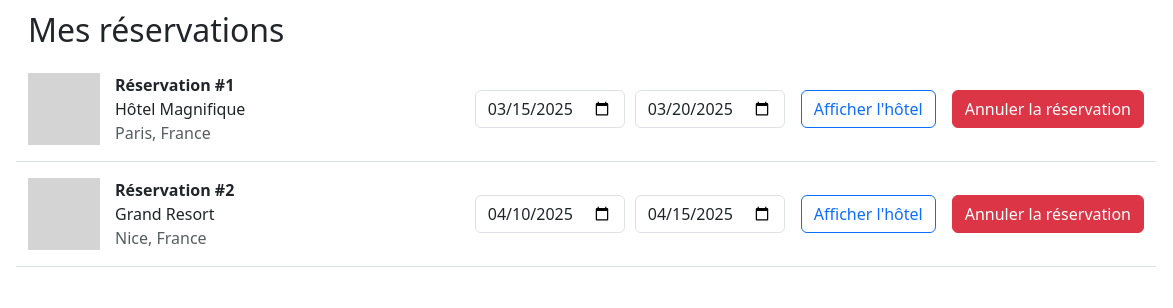
BookingsView.vue › Interaction utilisateur - Utilisateur standard › devrait marquer une réservation comme modifiée quand les dates sont changées
Step 1. Type "2025-03-16" into the 1st date field → (550, 109), box [475,90,625,128]
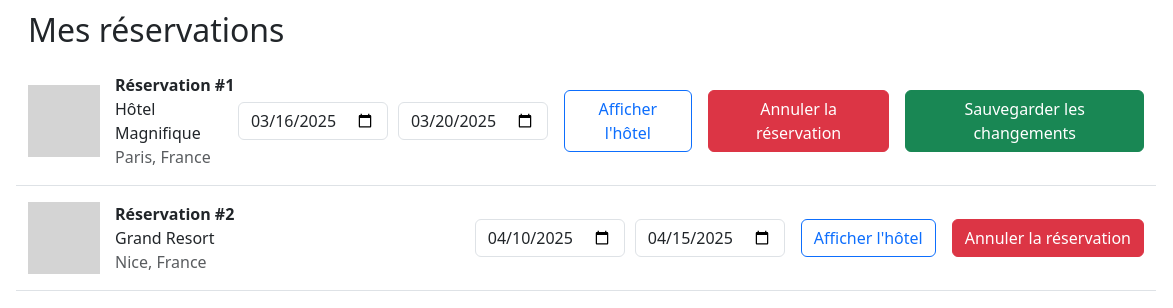
expect the button with class "btn-success" is shown: met, box [906,90,1144,152]
